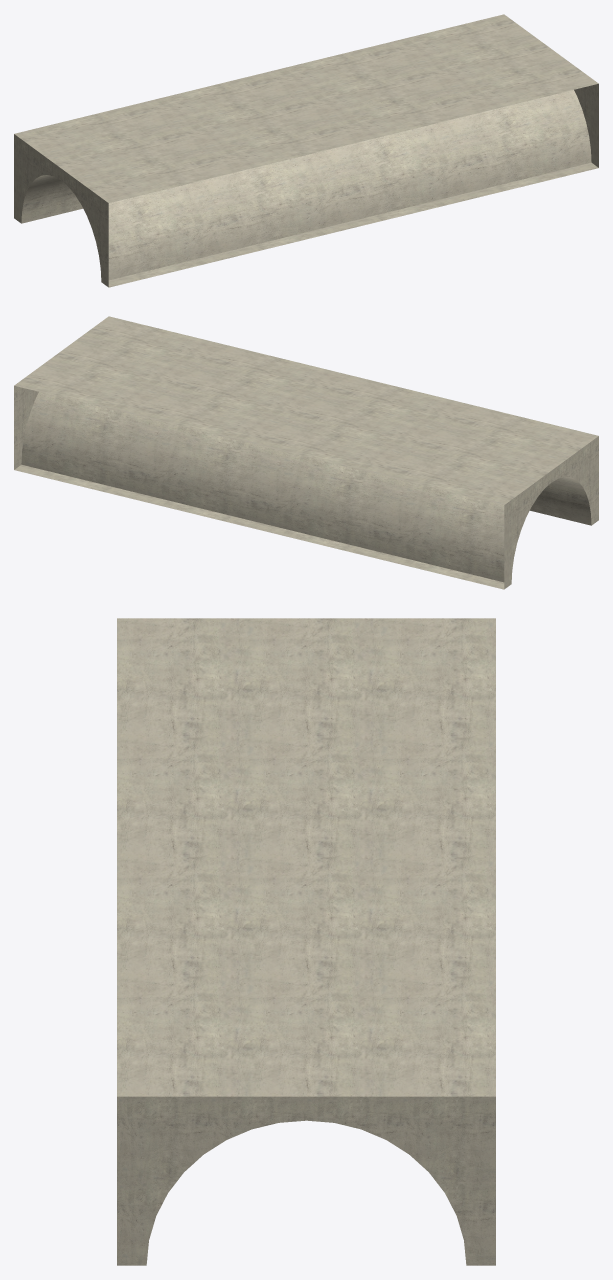
File: BridgeBase8-6L.FBX
3 views of the same model, one above another, from view 1: azimuth 30°, elevation 25°; view 2: azimuth 150°, elevation 25°; view 3: azimuth 270°, elevation 25° (orthographic). The views are drawn at different scales.
Visible parts, largest first — view 1: BridgeBase8-6L; view 2: BridgeBase8-6L; view 3: BridgeBase8-6L.
Boxes of the visible parts, box(x1,y1,x2,y2) form: BridgeBase8-6L: box(14, 14, 598, 287); BridgeBase8-6L: box(14, 316, 598, 589); BridgeBase8-6L: box(117, 618, 495, 1265).
Size of the model in its own units: 38 by 6.25 by 12.73.
